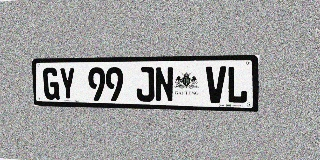9: (88, 67, 106, 101), (106, 67, 124, 101)
G: (43, 67, 60, 100)
J: (136, 67, 154, 102)
L: (226, 66, 248, 104)
N: (155, 66, 174, 102)
V: (206, 66, 226, 103)
Y: (59, 67, 76, 100)
